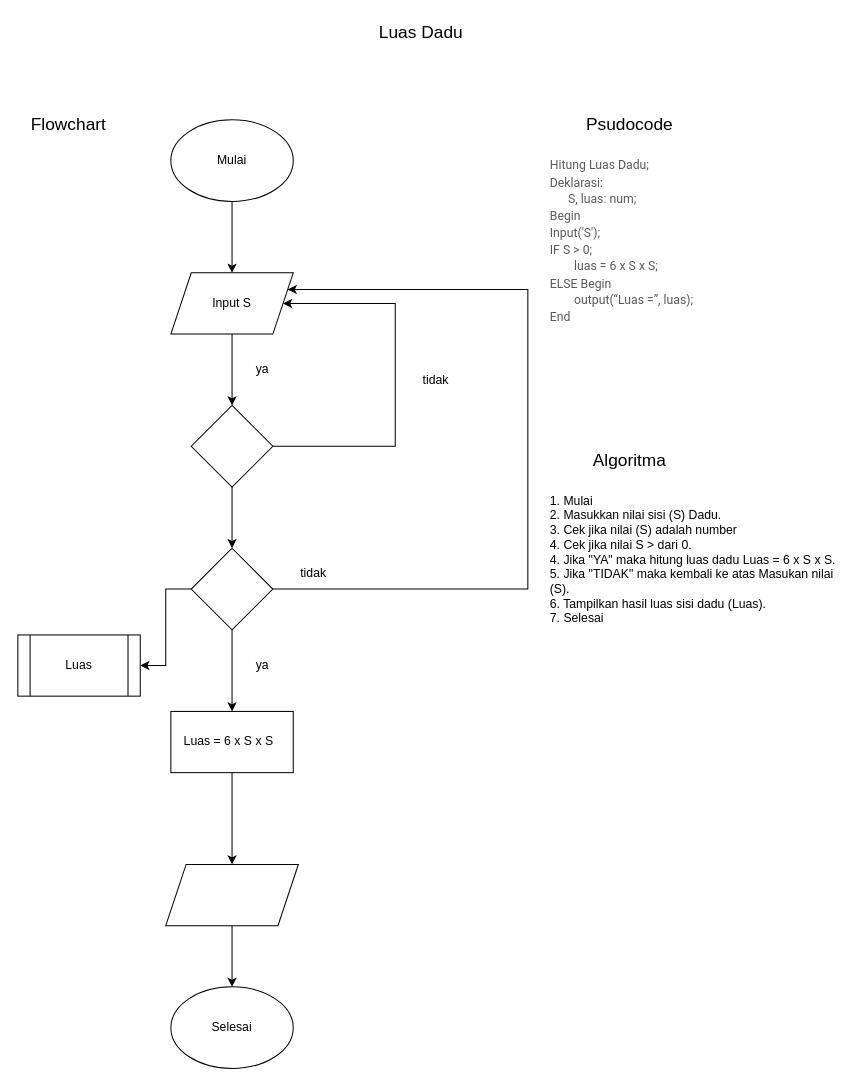
The diagram is 862 pixels wide and 1086 high, and some of its shapes have lost their labels. The shapes that lost their labels are listed below. From the top down, each one's centre as x and y in pixels, then its label:
At (x=231, y=445): "S == num".
At (x=231, y=588): "S > 0".
At (x=231, y=894): "Tampilkan Luas".
